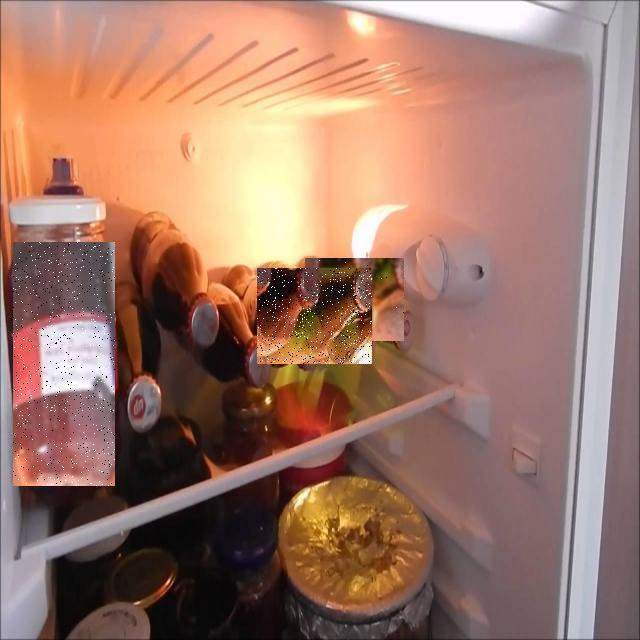Tomatoes: (13, 242, 115, 486)
Water: (257, 268, 372, 364), (305, 258, 404, 341)
